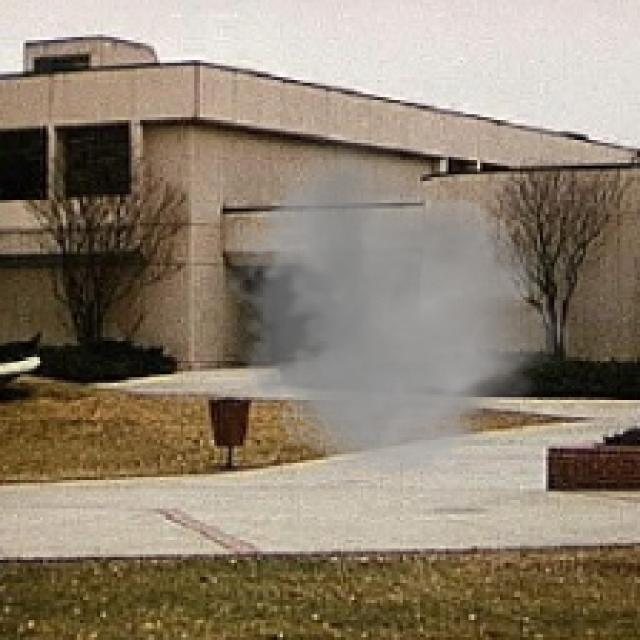smoke: (211, 128, 583, 483)
